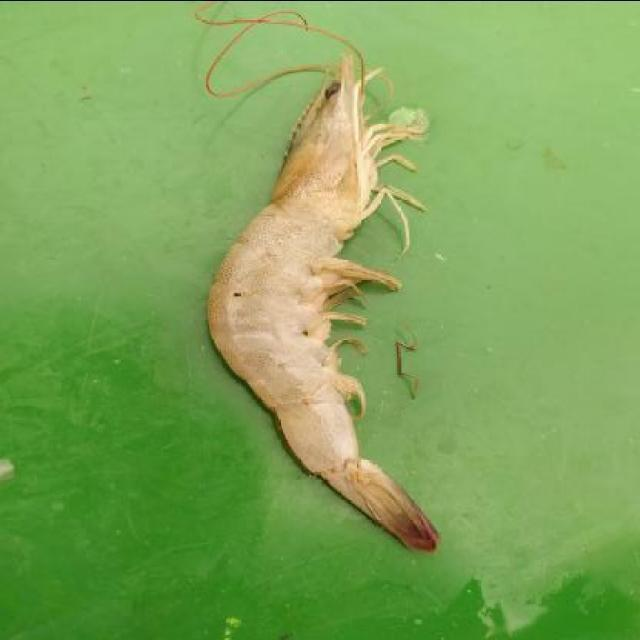shrimp: (204, 38, 444, 558)
